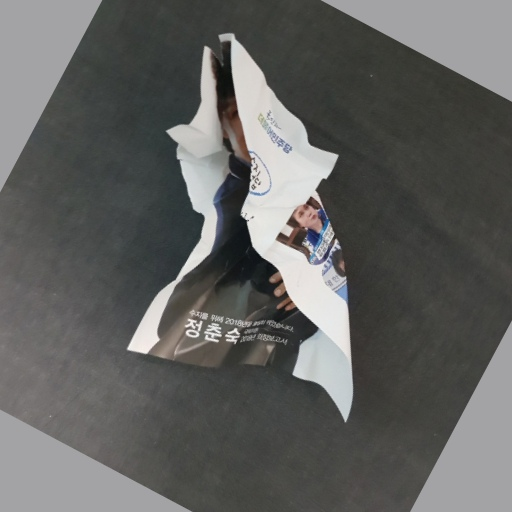Paper_3: (144, 30, 388, 430)
